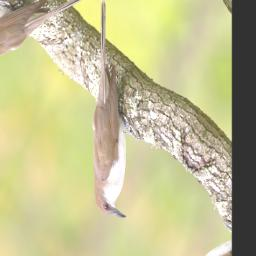Cuckoo: (31, 0, 192, 232)
